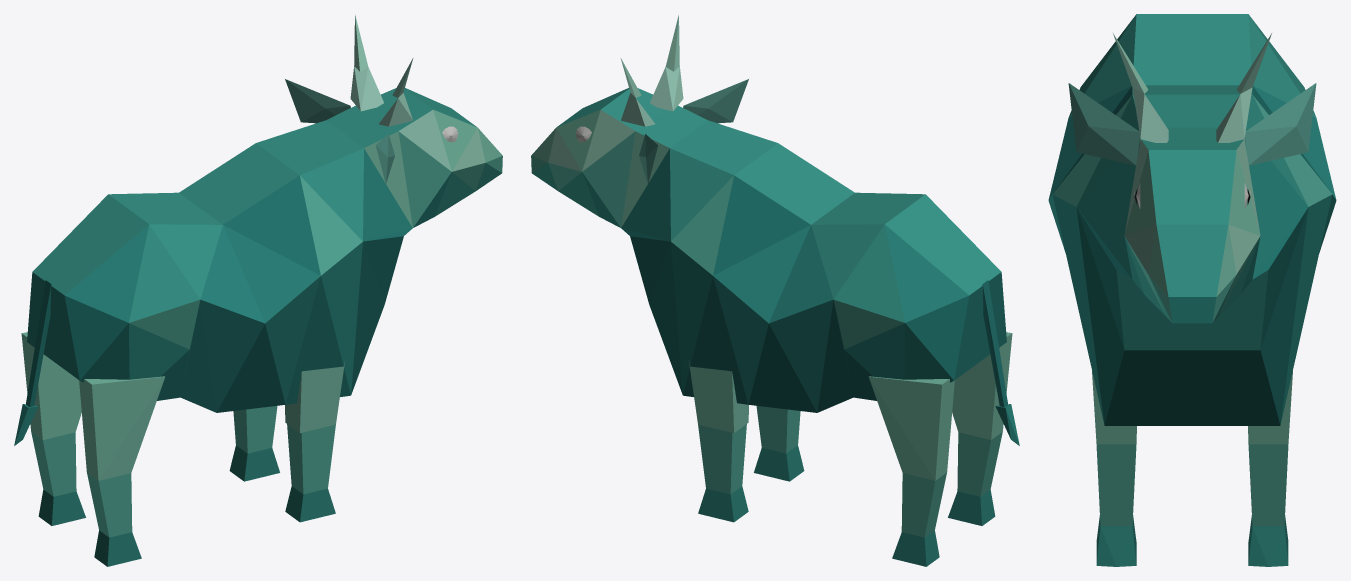
Rendered from sapi.glb.
The picture shows the model from 3 angles, left to right: view 1: azimuth 30°, elevation 25°; view 2: azimuth 150°, elevation 25°; view 3: azimuth 270°, elevation 25°; orthographic projection. The views are drawn at different scales.
Parts seen in each view (by area): view 1: sapi; view 2: sapi; view 3: sapi.
Part boxes in pixels (x1=…): sapi: x1=14, y1=15, x2=502, y2=566; sapi: x1=531, y1=15, x2=1019, y2=566; sapi: x1=1048, y1=14, x2=1336, y2=566.
Size of the model in its own units: 0.2935 by 0.252 by 0.1116.
